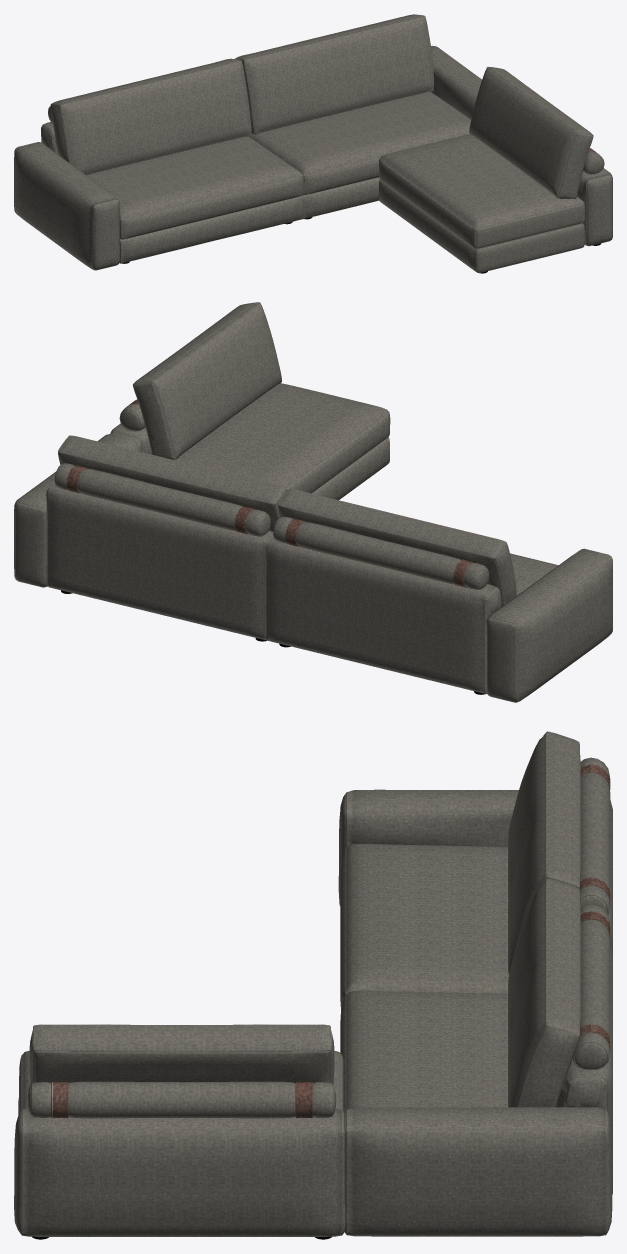
File: joey_sofa_with_removable_chaise_longue.glb
The picture shows the model from 3 angles, top to bottom: view 1: azimuth 30°, elevation 25°; view 2: azimuth 150°, elevation 25°; view 3: azimuth 270°, elevation 25°; orthographic projection. The views are drawn at different scales.
Visible parts, largest first — view 1: Material2 (×17); view 2: Material2 (×20); view 3: Material2 (×21).
Part boxes in pixels (<box>): Material2 (×17): <box>14,14,612,272</box>; Material2 (×20): <box>14,302,612,702</box>; Material2 (×21): <box>14,731,612,1236</box>.
Size of the model in its own units: 132 by 35.05 by 95.81.
Materials: 4 (2 with a texture image).
